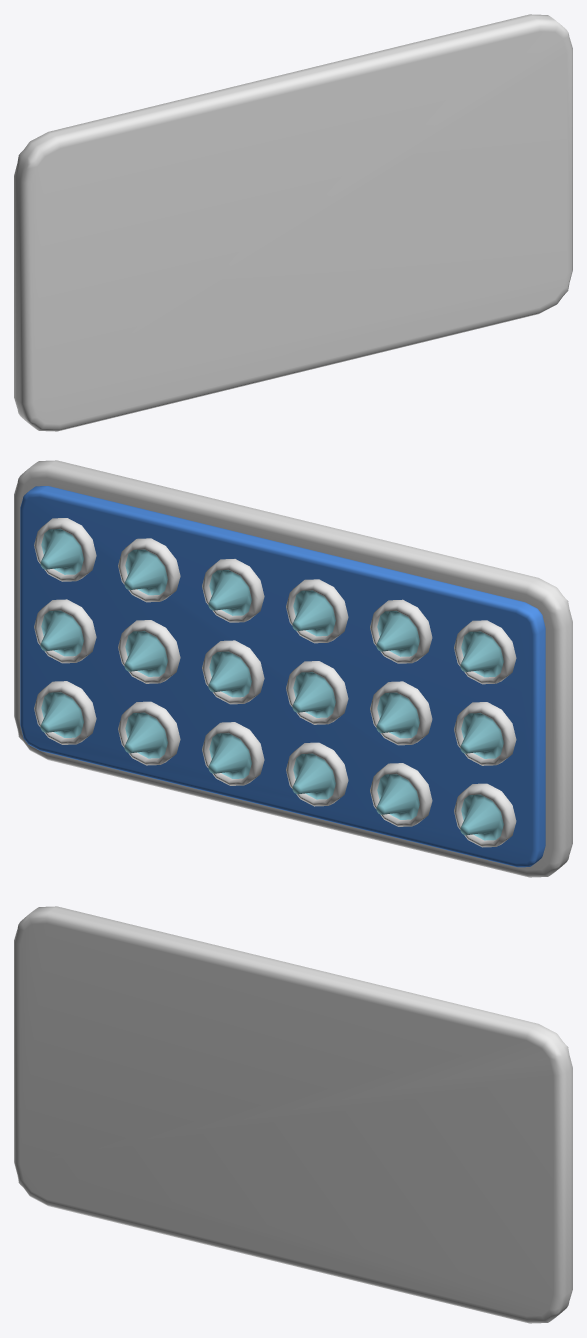
File: Barbedtrap.fbx
3 views of the same model, one above another, from view 1: azimuth 30°, elevation 25°; view 2: azimuth 150°, elevation 25°; view 3: azimuth 330°, elevation 25° (orthographic).
Visible parts, largest first — view 1: NurbsPath.002; view 2: NurbsPath.002; view 3: NurbsPath.002.
Part boxes in pixels (x1,y1,x2,y2): NurbsPath.002: (14,14,572,431); NurbsPath.002: (14,460,572,877); NurbsPath.002: (14,906,572,1323).
Size of the model in its own units: 2.52 by 1.28 by 0.3536.
